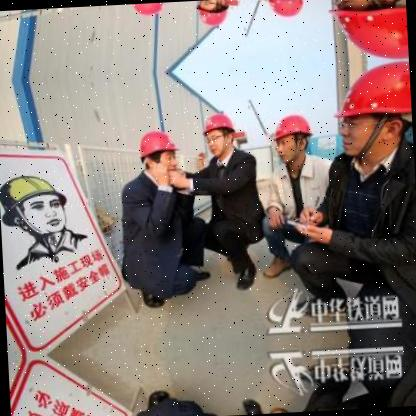capacete: (326, 56, 412, 124), (267, 112, 315, 146), (134, 126, 182, 158), (199, 108, 238, 138)
